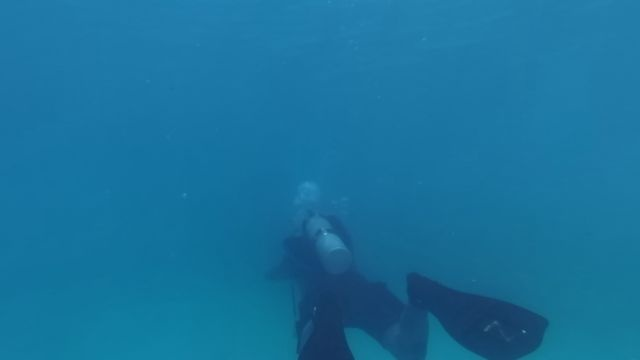Diver: (263, 203, 549, 359)
